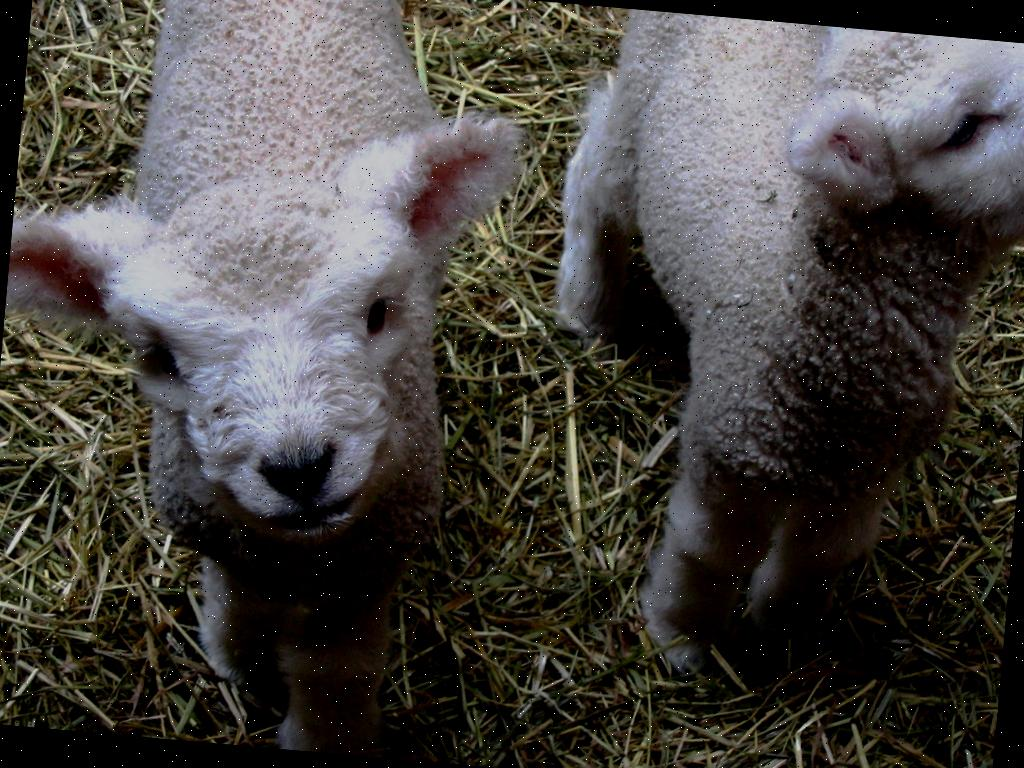Sheep: (0, 0, 549, 767), (521, 4, 1024, 702)
